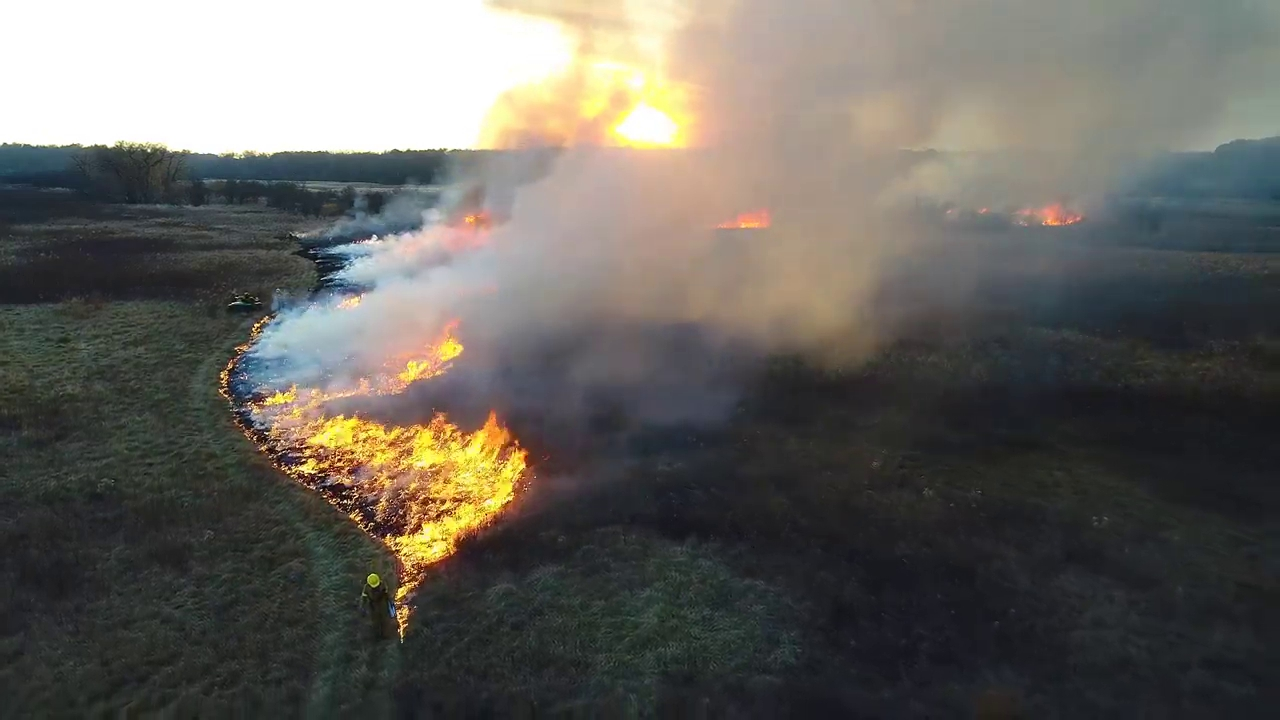forest_fire: (220, 317, 526, 636), (1013, 204, 1082, 226), (716, 209, 770, 228), (462, 212, 489, 231), (328, 294, 362, 308)
